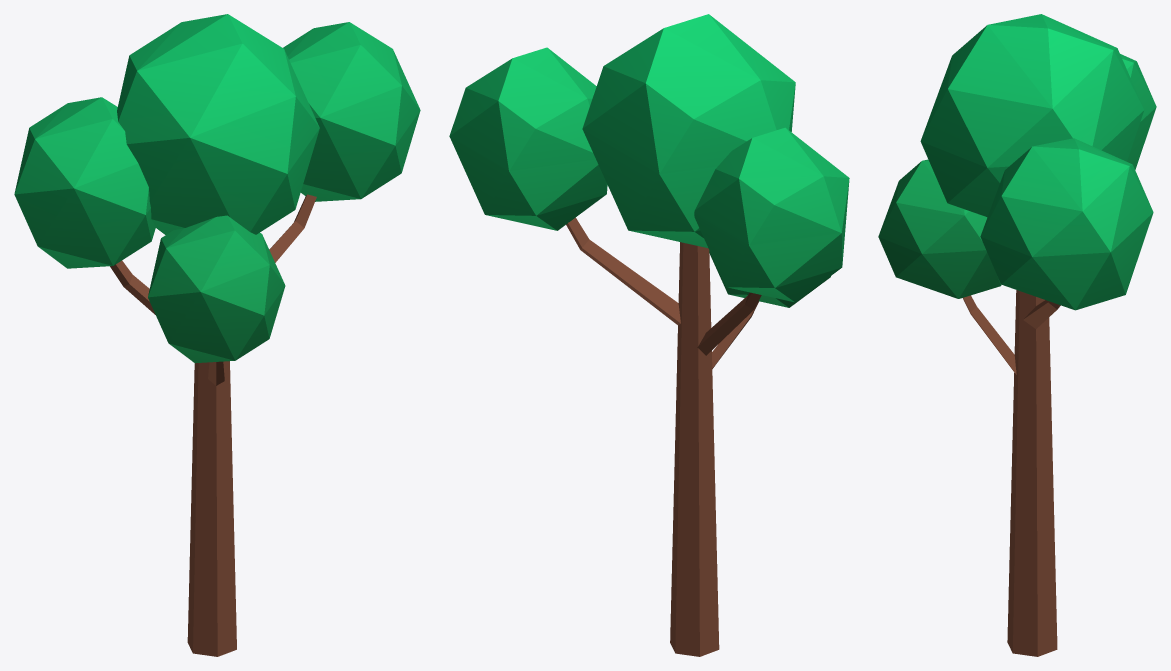
The model's file is Tree_35_gradient_green_vc.fbx.
The picture shows the model from 3 angles, left to right: view 1: azimuth 30°, elevation 25°; view 2: azimuth 150°, elevation 25°; view 3: azimuth 270°, elevation 25°; orthographic projection.
Visible parts, largest first — view 1: Tree_35_gradient_green_vc; view 2: Tree_35_gradient_green_vc; view 3: Tree_35_gradient_green_vc.
Part boxes in pixels (x1,y1,x2,y2): Tree_35_gradient_green_vc: [14, 14, 420, 656]; Tree_35_gradient_green_vc: [449, 14, 849, 656]; Tree_35_gradient_green_vc: [878, 14, 1156, 656].
Size of the model in its own units: 423 by 658 by 264.
